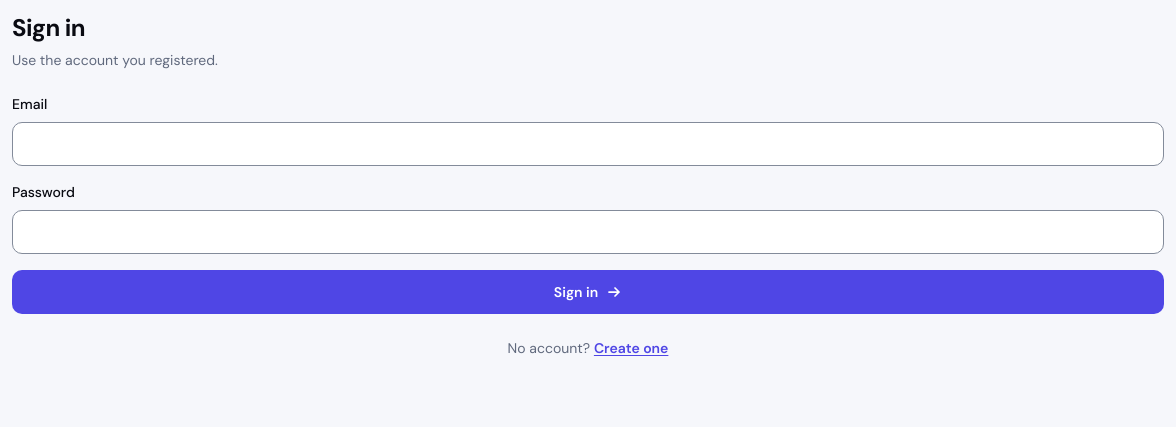
Test: the sign-in form › reports a server it cannot reach rather than failing silently
The image size is (1176, 427).
In the field labelled "Email": {"x": 588, "y": 144} 12,122 -> 1164,166, type "owner@marketcore.test"
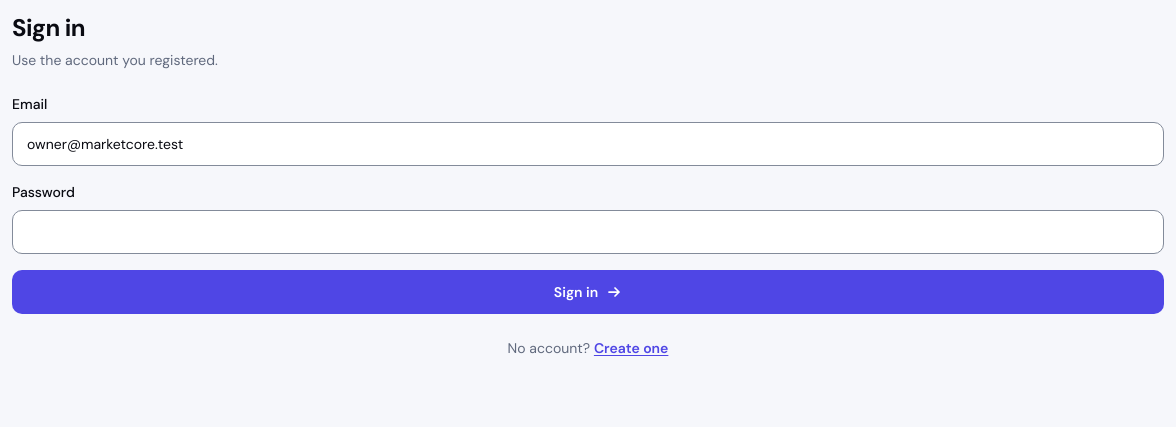
In the password field labelled "Password": {"x": 588, "y": 232} 12,210 -> 1164,254, type "correct-horse-battery"
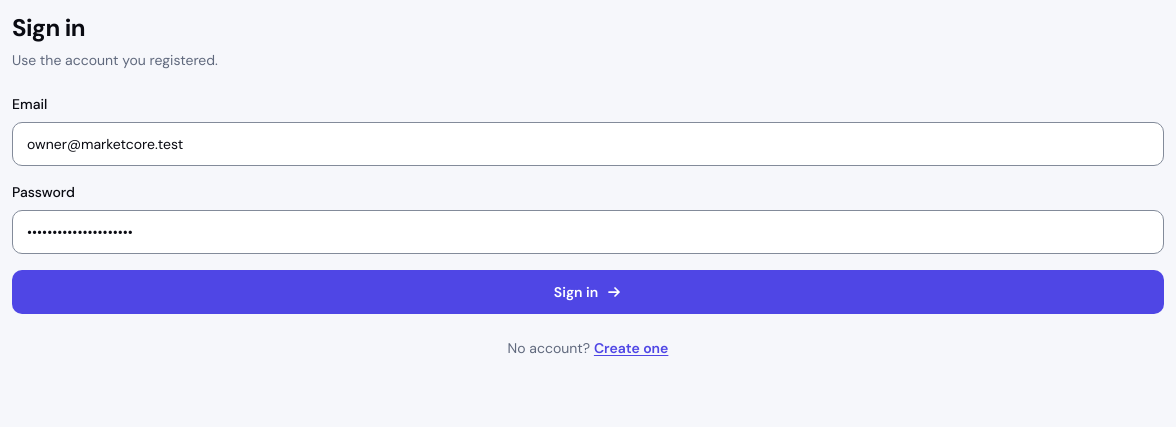
Click the button "Sign in": {"x": 588, "y": 292} 12,270 -> 1164,314
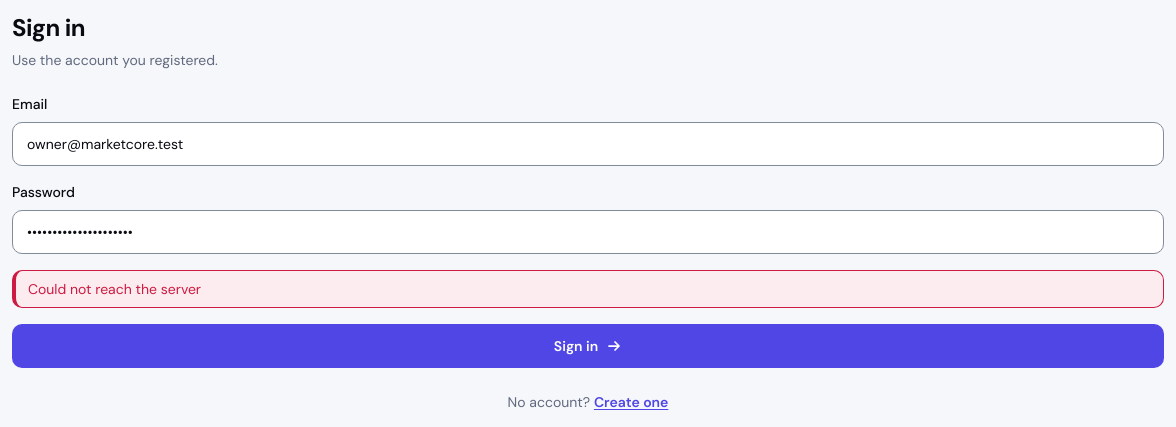
Now the text "Could not reach the server" is shown, box 12,270 -> 1164,308
